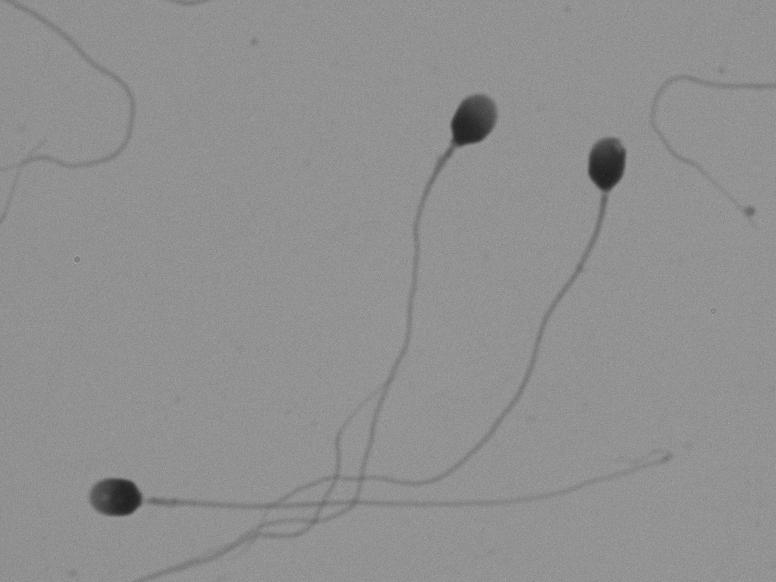Abnormal: (518, 104, 653, 478)
Normal: (71, 377, 660, 555), (339, 52, 509, 554)
